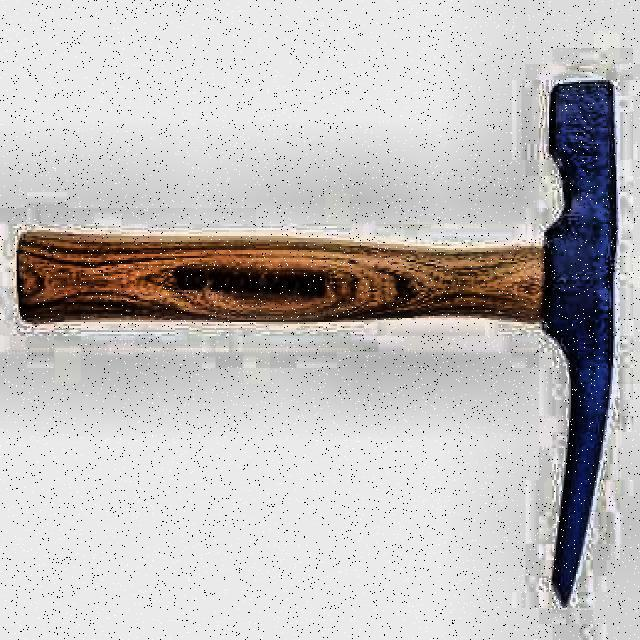hammer: (13, 77, 622, 591)
